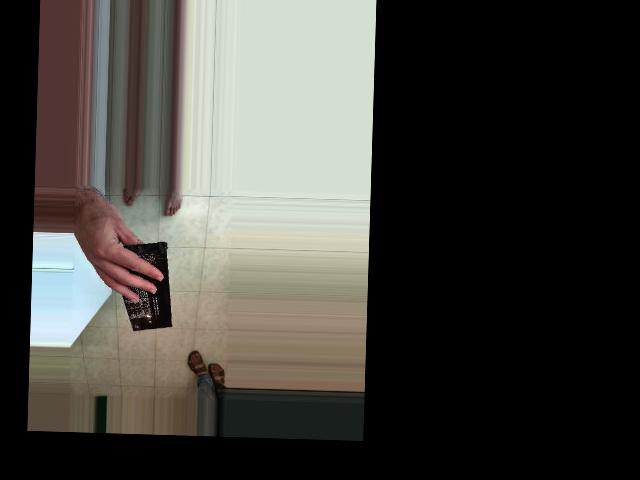chocolate: (104, 228, 176, 334)
